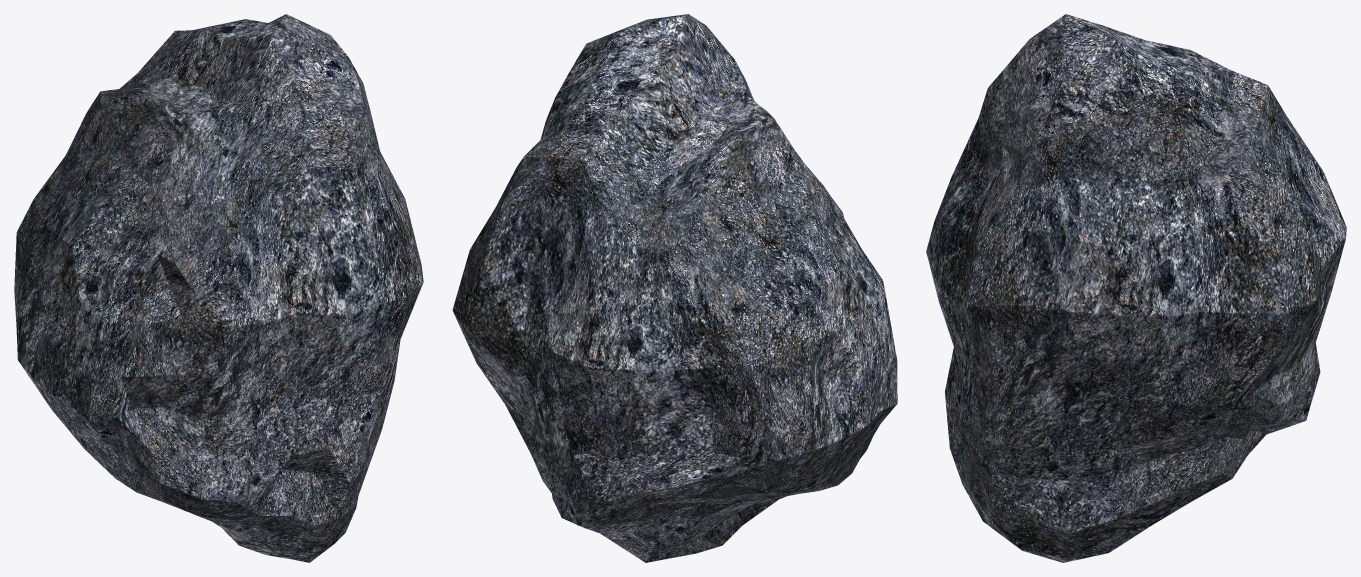
Rendered from asteroid_iron_medium_s03_l0.fbx.
3 views of the same model, side by side, from view 1: azimuth 30°, elevation 25°; view 2: azimuth 150°, elevation 25°; view 3: azimuth 270°, elevation 25° (orthographic). The views are drawn at different scales.
Parts seen in each view (by area): view 1: mesh_node; view 2: mesh_node; view 3: mesh_node.
Boxes of the visible parts, x1,y1,x2,y2 form: mesh_node: (14,14,423,562); mesh_node: (452,14,897,562); mesh_node: (926,14,1346,562).
Size of the model in its own units: 44.48 by 67.99 by 48.01.
